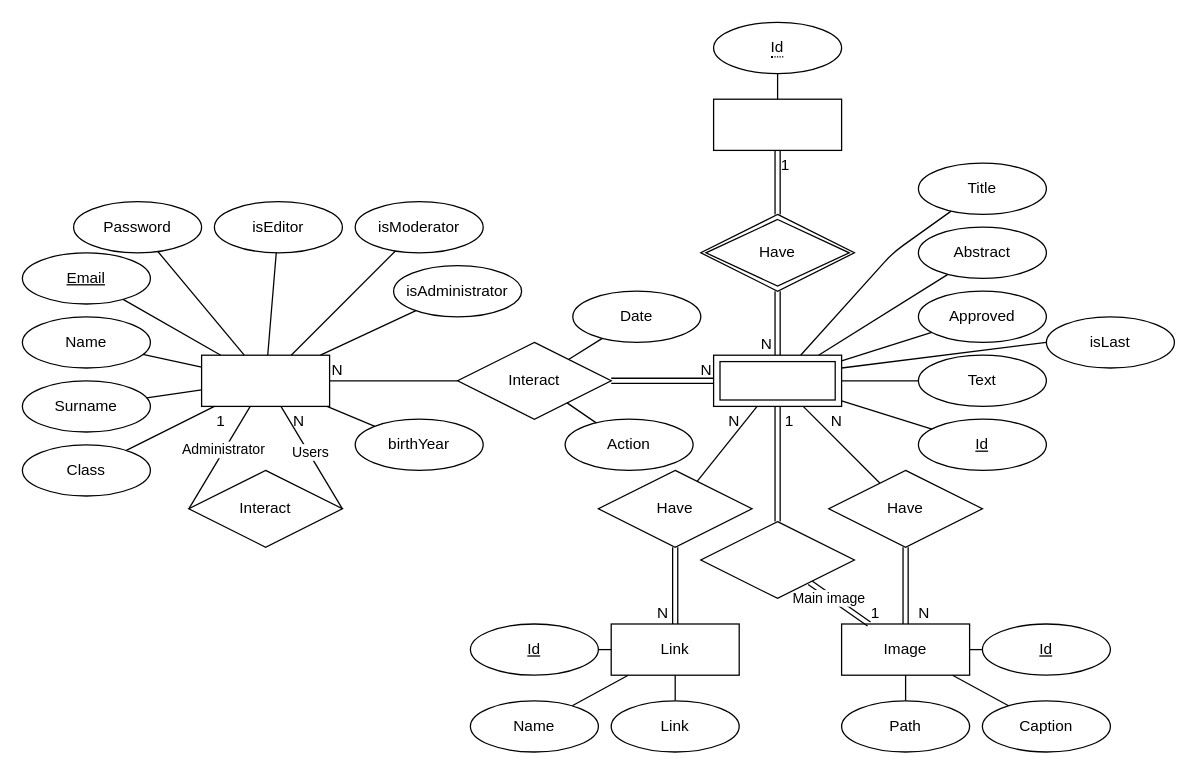
The diagram is 1197 pixels wide and 774 high, and some of its shapes have lost their labels. The shapes that lost their labels are listed below. From the top down, each one's centre as x and y in pixels, then its label:
At point (777, 124): "Article".
At point (265, 380): "User".
At point (777, 380): "Version".
At point (777, 559): "Use".
